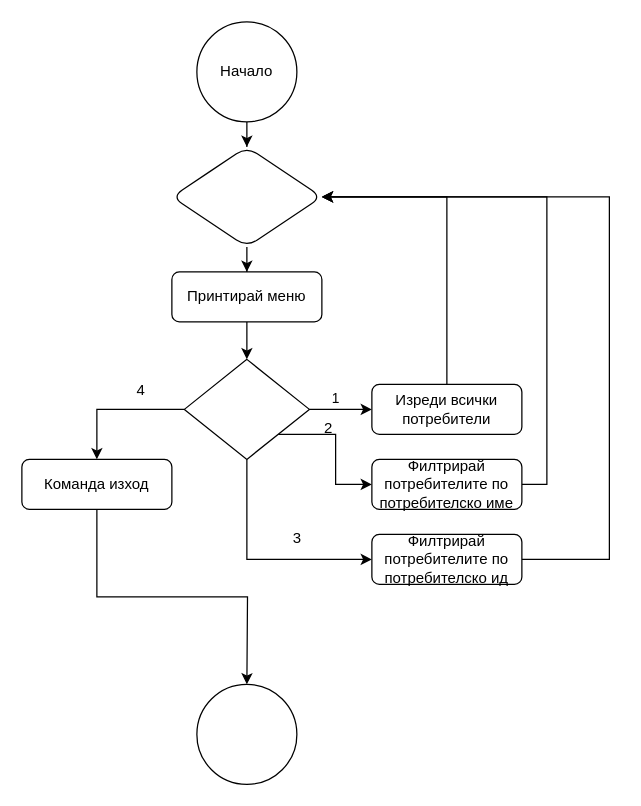
The diagram is 641 pixels wide and 806 high, and some of its shapes have lost their labels. The box of each missing label's shape, as (x1, y1, x2, y2) in pixels:
Винаги вярно: (171, 146, 322, 247)
Избор на потребителя: (183, 358, 309, 459)
Край: (196, 683, 297, 784)
